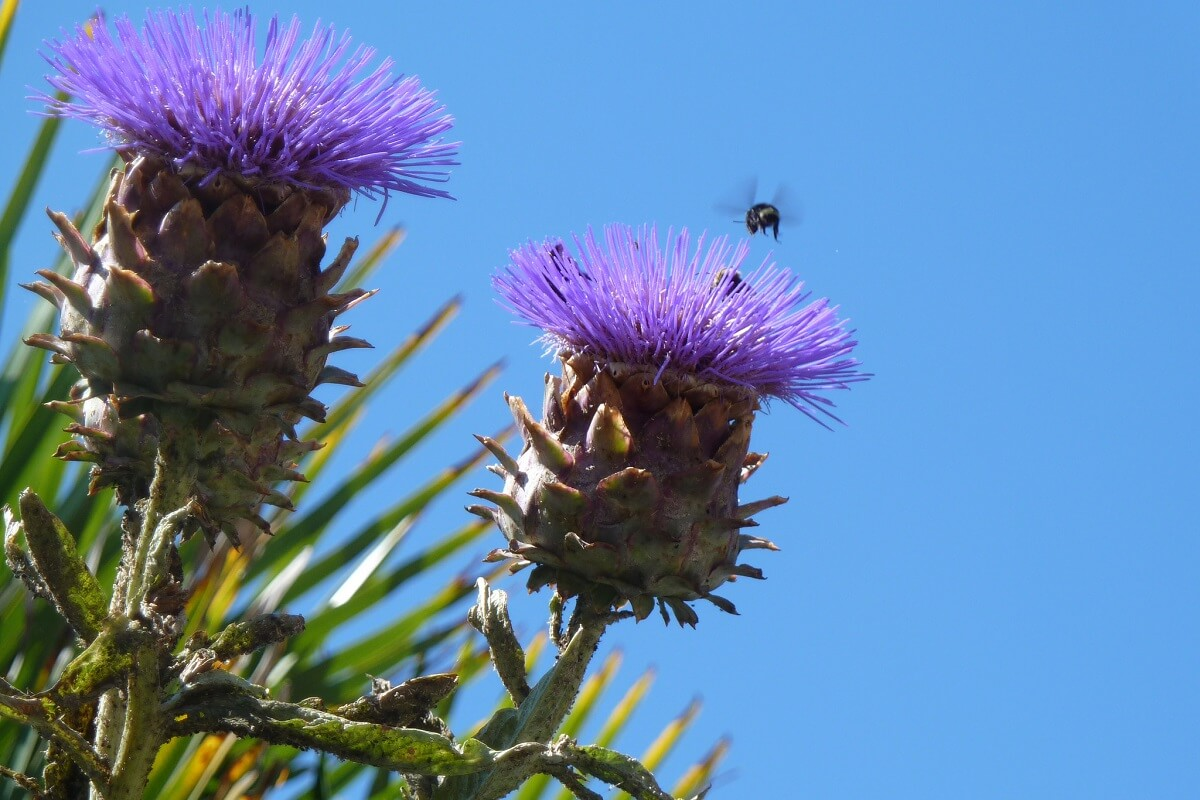thistle: (45, 12, 449, 453), (471, 217, 863, 629)
